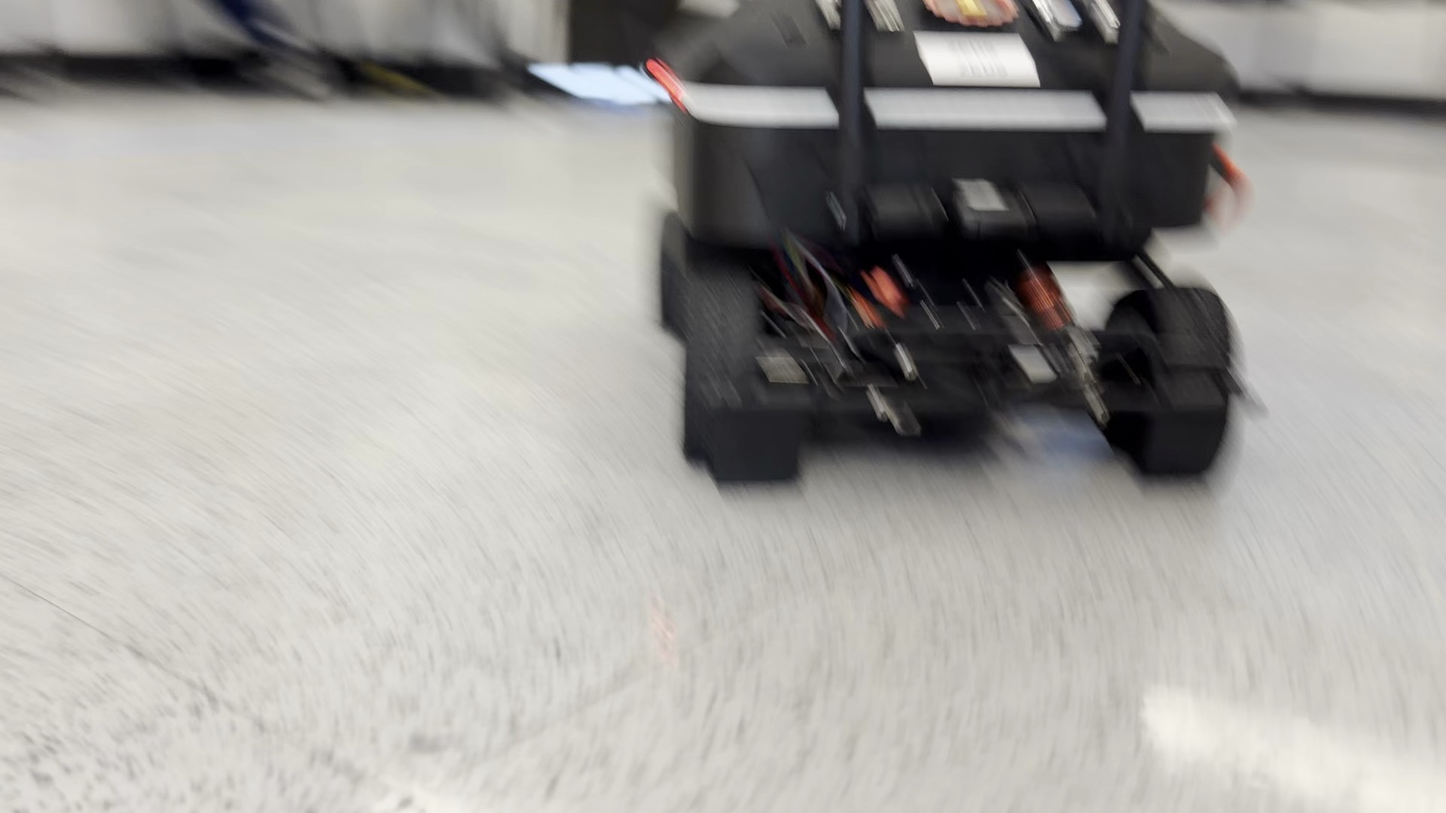racecar: (641, 0, 1247, 490)
